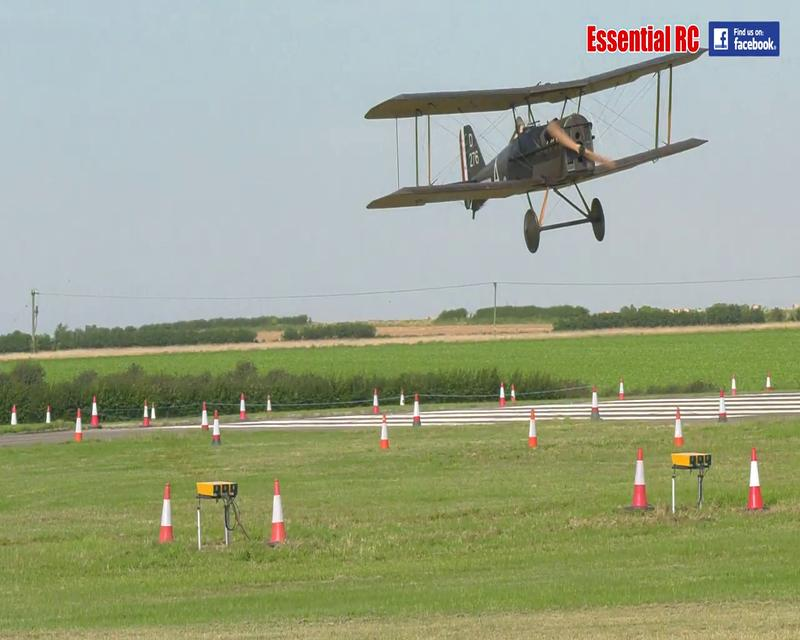UAV: (364, 50, 710, 253), (585, 22, 700, 53)
